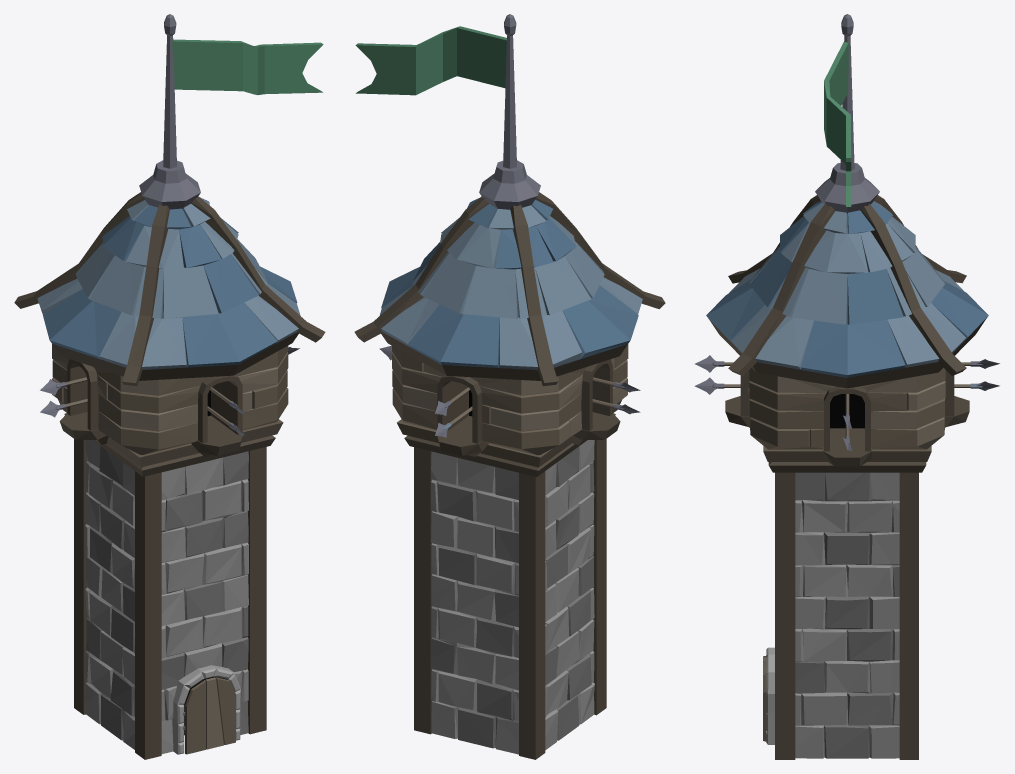
File: _archers_tower_LVL_1.fbx
The picture shows the model from 3 angles, left to right: view 1: azimuth 30°, elevation 25°; view 2: azimuth 150°, elevation 25°; view 3: azimuth 270°, elevation 25°; orthographic projection.
Visible parts, largest first — view 1: archers_tower_LVL_1; view 2: archers_tower_LVL_1; view 3: archers_tower_LVL_1.
Boxes of the visible parts, left/top/right/bottom form: archers_tower_LVL_1: left=14, top=14, right=325, bottom=759; archers_tower_LVL_1: left=354, top=14, right=665, bottom=759; archers_tower_LVL_1: left=694, top=14, right=999, bottom=759.
Size of the model in its own units: 850 by 2021 by 784.
